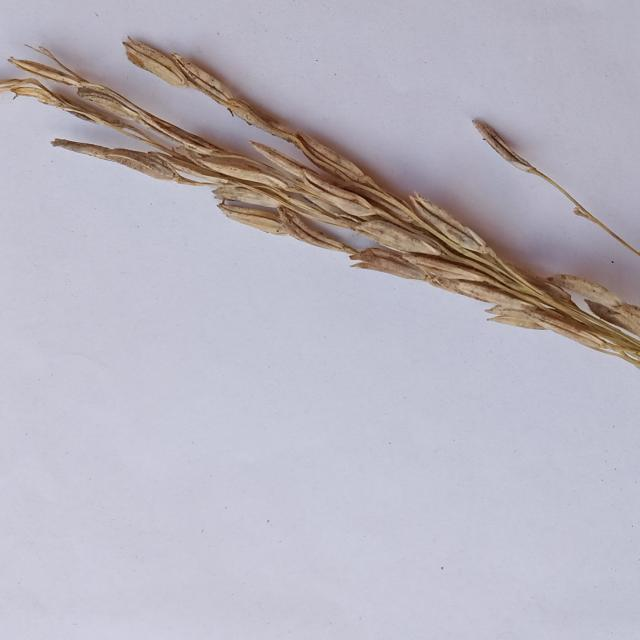Neck_Blast: (2, 36, 635, 366)
